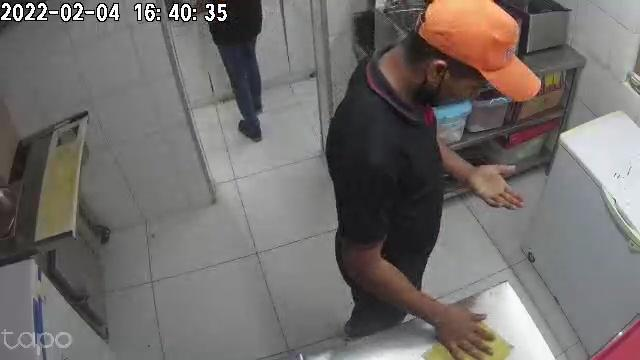no_gloves: (465, 166, 523, 212)
